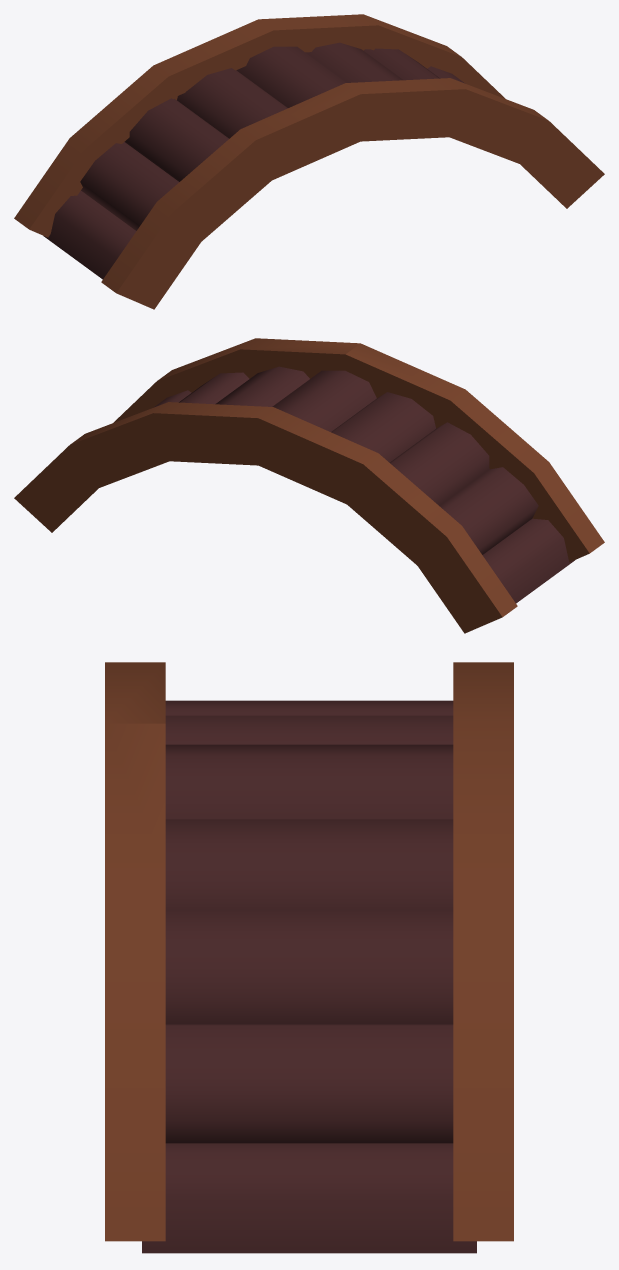
The model's file is bridge01_s02.FBX.
3 views of the same model, one above another, from view 1: azimuth 30°, elevation 25°; view 2: azimuth 150°, elevation 25°; view 3: azimuth 270°, elevation 25° (orthographic). The views are drawn at different scales.
Visible parts, largest first — view 1: bridge01_s02; view 2: bridge01_s02; view 3: bridge01_s02.
Part boxes in pixels (<box>): bridge01_s02: <box>14,14,604,309</box>; bridge01_s02: <box>14,338,604,633</box>; bridge01_s02: <box>105,662,513,1253</box>.
Bounding box in the file's own units: 378 × 137 × 122.
1 material, 1 textured.
